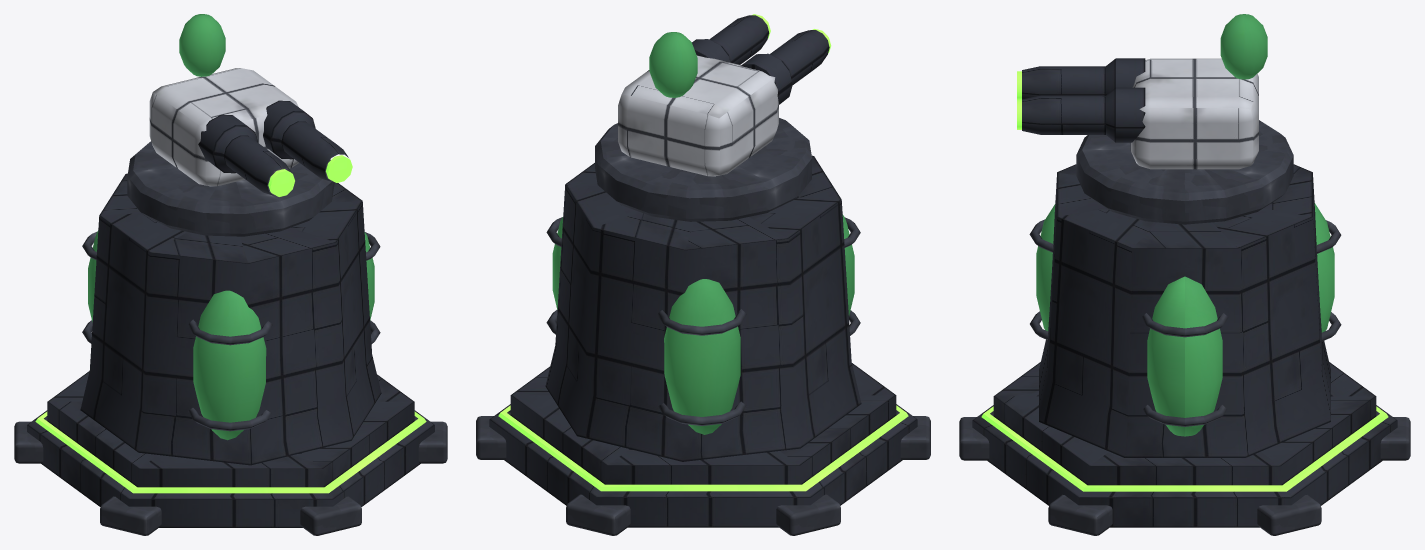
Rendered from sf_spore.glb.
The picture shows the model from 3 angles, left to right: view 1: azimuth 30°, elevation 25°; view 2: azimuth 150°, elevation 25°; view 3: azimuth 270°, elevation 25°; orthographic projection. The views are drawn at different scales.
Parts seen in each view (by area): view 1: Base, Turret; view 2: Base, Turret; view 3: Base, Turret.
Part boxes in pixels (x1,y1,x2,y2): Base: [14, 173, 447, 535]; Turret: [127, 14, 352, 236]; Base: [476, 155, 930, 535]; Turret: [595, 14, 831, 221]; Base: [959, 164, 1410, 535]; Turret: [1017, 14, 1293, 224].
Bounding box in the file's own units: 0.8425 × 0.97 × 0.9128.
5 materials, 5 textured.
